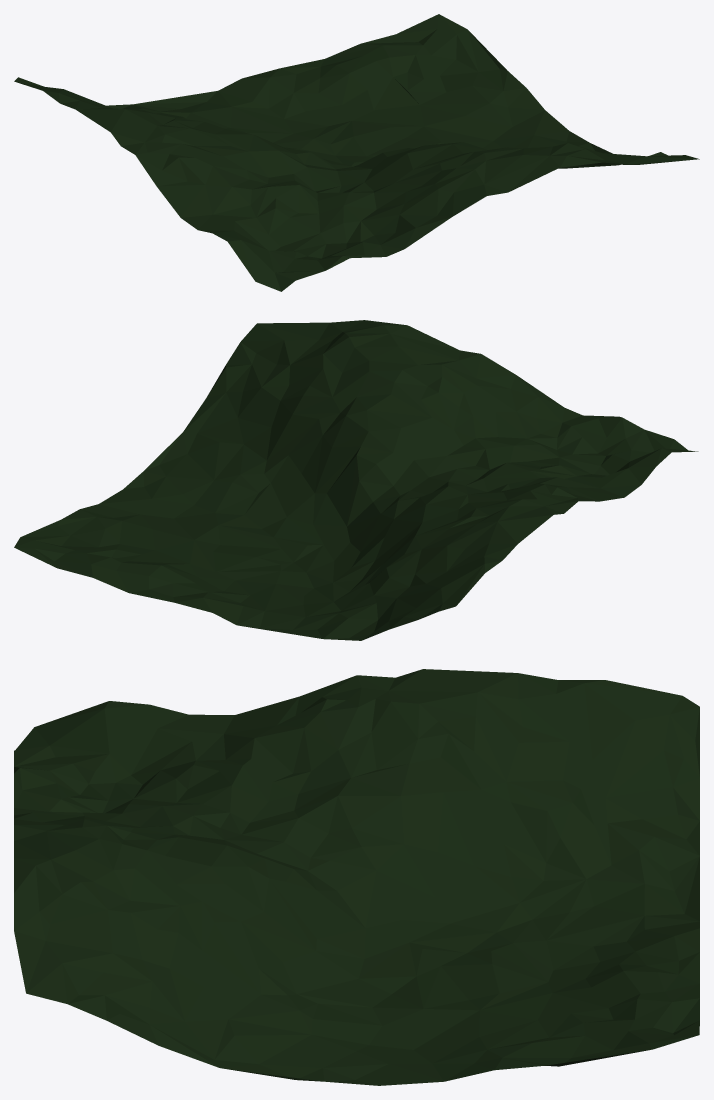
The model's file is SM_terrain_04.fbx.
3 views of the same model, one above another, from view 1: azimuth 30°, elevation 25°; view 2: azimuth 150°, elevation 25°; view 3: azimuth 270°, elevation 25° (orthographic). The views are drawn at different scales.
Parts seen in each view (by area): view 1: terrain_04; view 2: terrain_04; view 3: terrain_04.
Part boxes in pixels (box(x1,y1,x2,y2)): terrain_04: box(14, 14, 699, 291); terrain_04: box(14, 320, 698, 640); terrain_04: box(14, 669, 699, 1085).
Size of the model in its own units: 7742 by 1750 by 7742.
